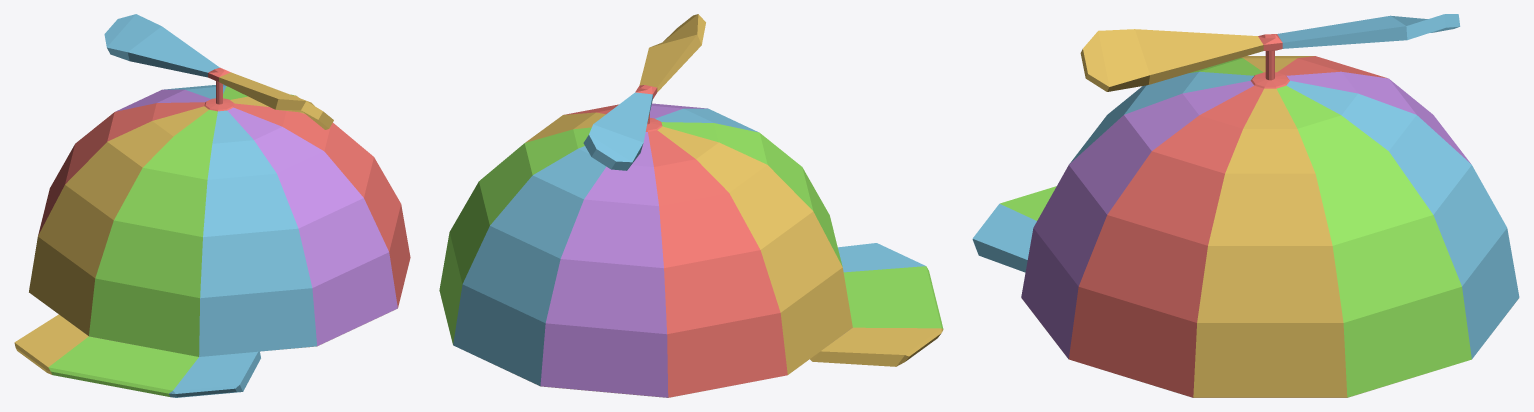
The model's file is PropellerHat.fbx.
3 renders of one model, left to right at view 1: azimuth 30°, elevation 25°; view 2: azimuth 150°, elevation 25°; view 3: azimuth 270°, elevation 25°, orthographic. The views are drawn at different scales.
Parts seen in each view (by area): view 1: Cap, Propeller; view 2: Cap, Propeller; view 3: Cap, Propeller.
Part boxes in pixels (x1=…): Cap: x1=14, y1=81, x2=410, y2=397; Propeller: x1=104, y1=14, x2=333, y2=129; Cap: x1=439, y1=103, x2=943, y2=397; Propeller: x1=583, y1=14, x2=705, y2=170; Cap: x1=972, y1=50, x2=1519, y2=397; Propeller: x1=1080, y1=14, x2=1460, y2=91.
Size of the model in its own units: 94.75 by 54.15 by 91.51.
